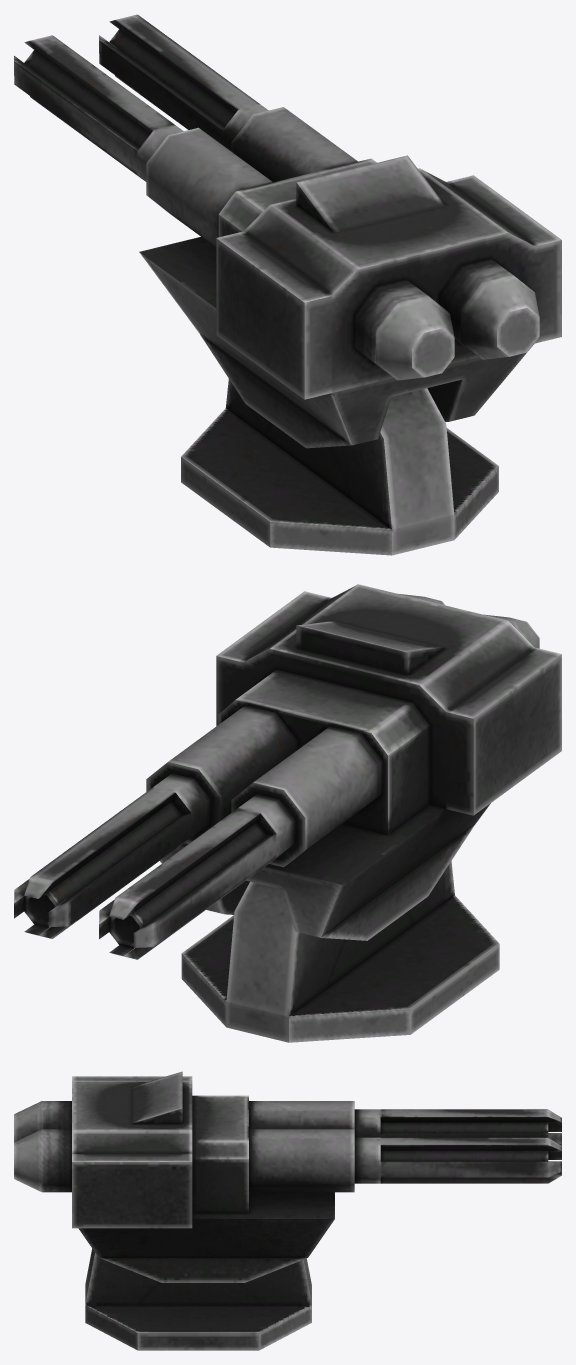
Rendered from Turret_PPC.FBX.
The picture shows the model from 3 angles, top to bottom: view 1: azimuth 30°, elevation 25°; view 2: azimuth 150°, elevation 25°; view 3: azimuth 270°, elevation 25°; orthographic projection. The views are drawn at different scales.
Visible parts, largest first — view 1: mantlet_1 ppc, turret ppc; view 2: mantlet_1 ppc, turret ppc; view 3: mantlet_1 ppc, turret ppc.
Part boxes in pixels (<box>): mantlet_1 ppc: <box>14,14,561,448</box>; turret ppc: <box>181,378,498,555</box>; mantlet_1 ppc: <box>14,584,561,959</box>; turret ppc: <box>181,861,499,1042</box>; mantlet_1 ppc: <box>14,1071,561,1282</box>; turret ppc: <box>85,1248,311,1350</box>.
Size of the model in its own units: 9.15 by 11.09 by 24.75.
Materials: 1 (1 with a texture image).
